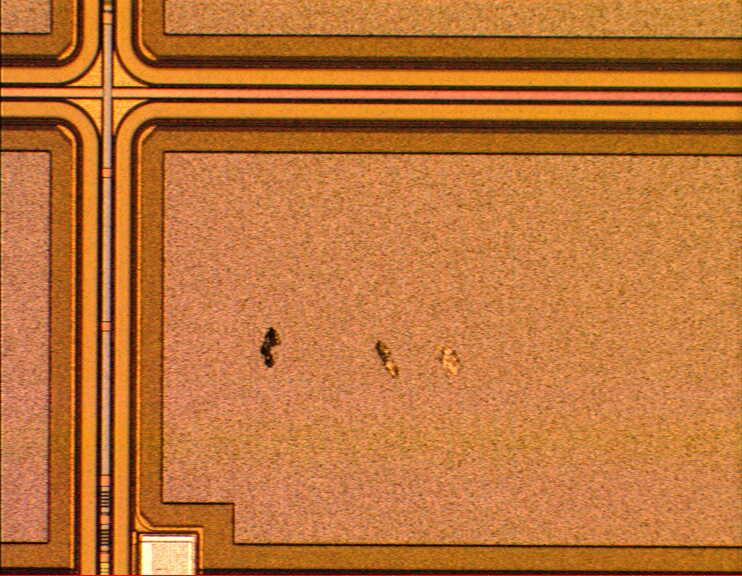PIQ PARTICLE: (244, 318, 478, 388)
